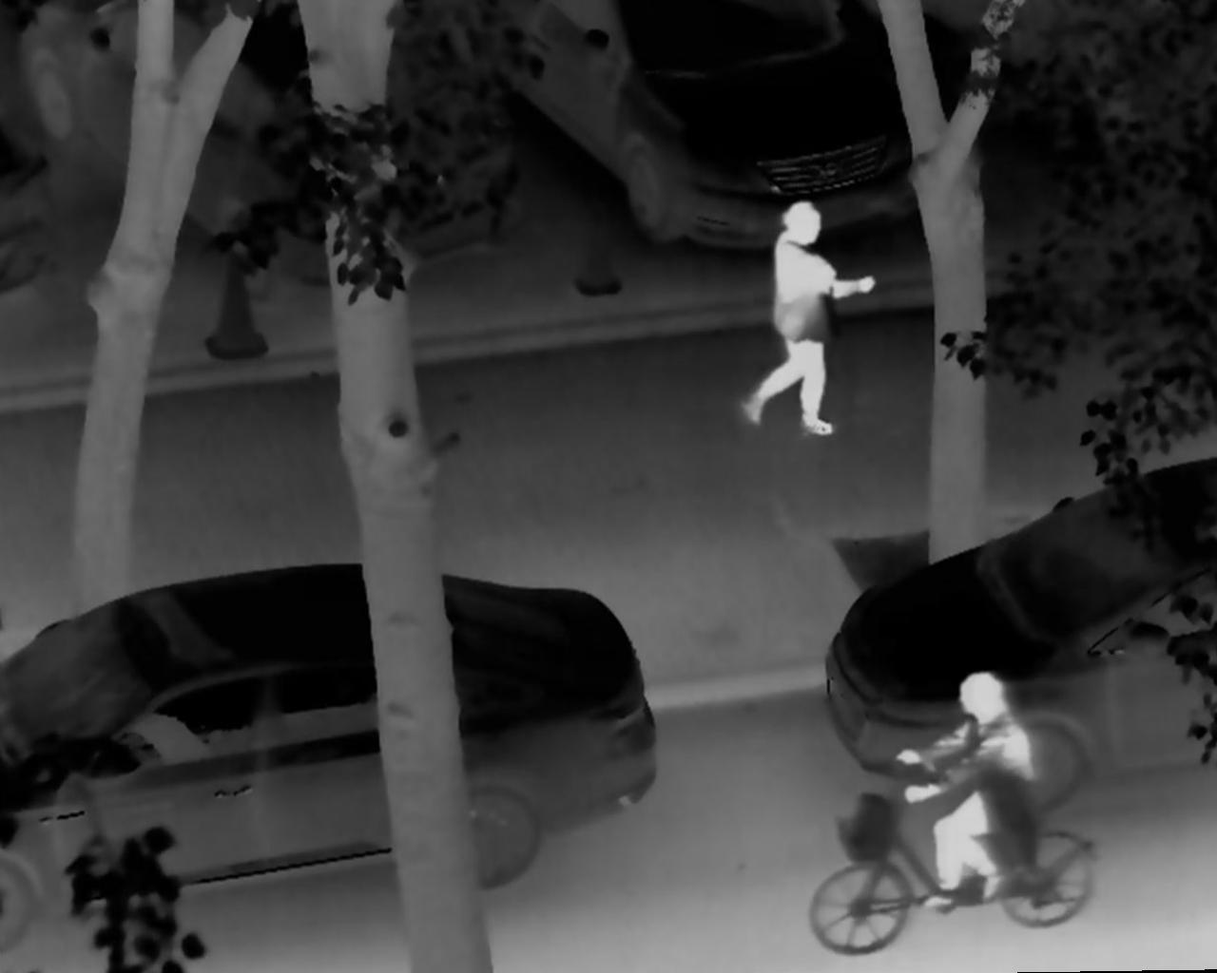person: (896, 664, 1037, 914), (740, 195, 876, 436)
